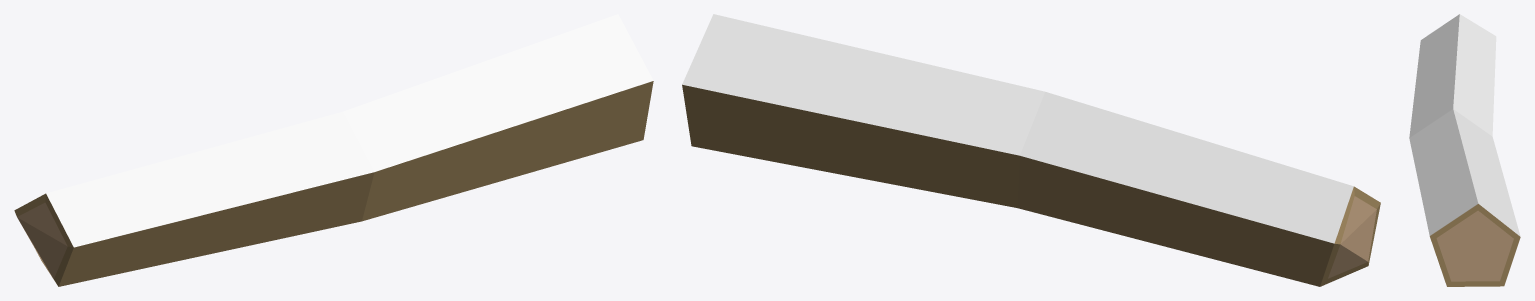
File: Acacia_Log_Snow_04.fbx
3 views of the same model, side by side, from view 1: azimuth 30°, elevation 25°; view 2: azimuth 150°, elevation 25°; view 3: azimuth 270°, elevation 25° (orthographic). The views are drawn at different scales.
Parts seen in each view (by area): view 1: Acacia_Log_Snow_04; view 2: Acacia_Log_Snow_04; view 3: Acacia_Log_Snow_04.
Boxes of the visible parts, x1,y1,x2,y2 form: Acacia_Log_Snow_04: (14, 14, 653, 286); Acacia_Log_Snow_04: (682, 14, 1380, 286); Acacia_Log_Snow_04: (1409, 14, 1520, 286).
Bounding box in the file's own units: 175 × 31.19 × 38.45.
